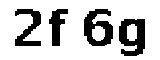2: (11, 4, 46, 50)
6: (80, 5, 116, 52)
f: (47, 7, 72, 50)
g: (118, 16, 148, 60)
